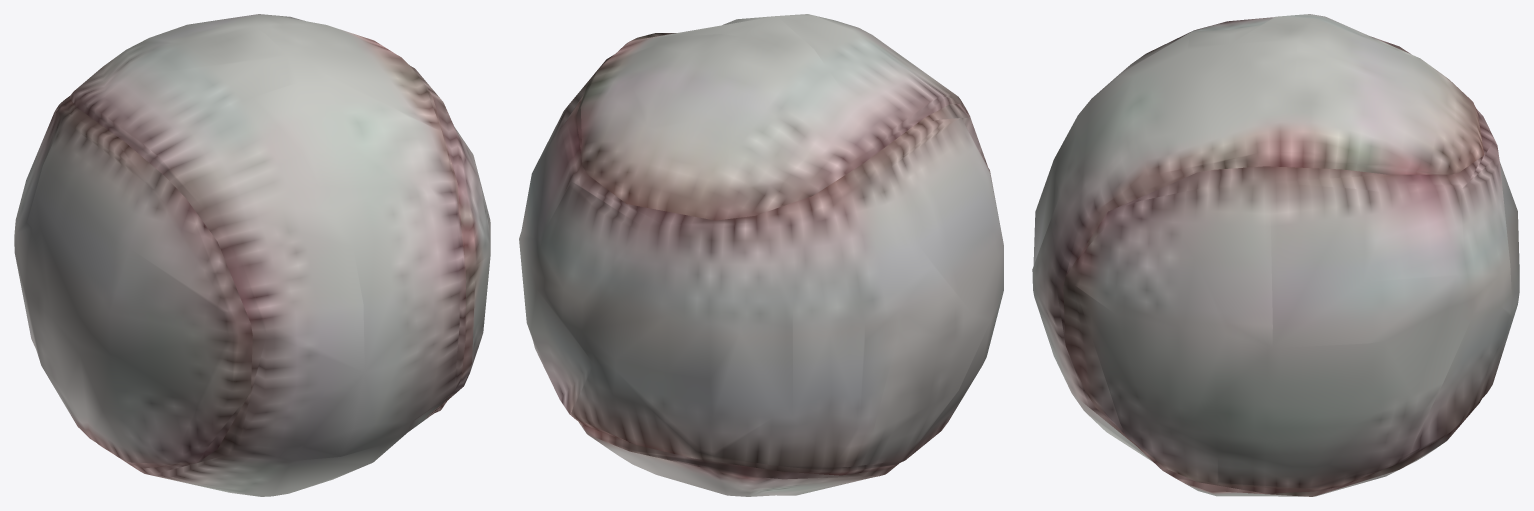
3 renders of one model, left to right at view 1: azimuth 30°, elevation 25°; view 2: azimuth 150°, elevation 25°; view 3: azimuth 270°, elevation 25°, orthographic.
Parts seen in each view (by area): view 1: baseball_01; view 2: baseball_01; view 3: baseball_01.
Boxes of the visible parts, x1,y1,x2,y2 form: baseball_01: (14, 14, 490, 496); baseball_01: (519, 14, 1003, 496); baseball_01: (1032, 14, 1519, 496).
Size of the model in its own units: 0.0734 by 0.0745 by 0.0745.
Materials: 1 (1 with a texture image).
